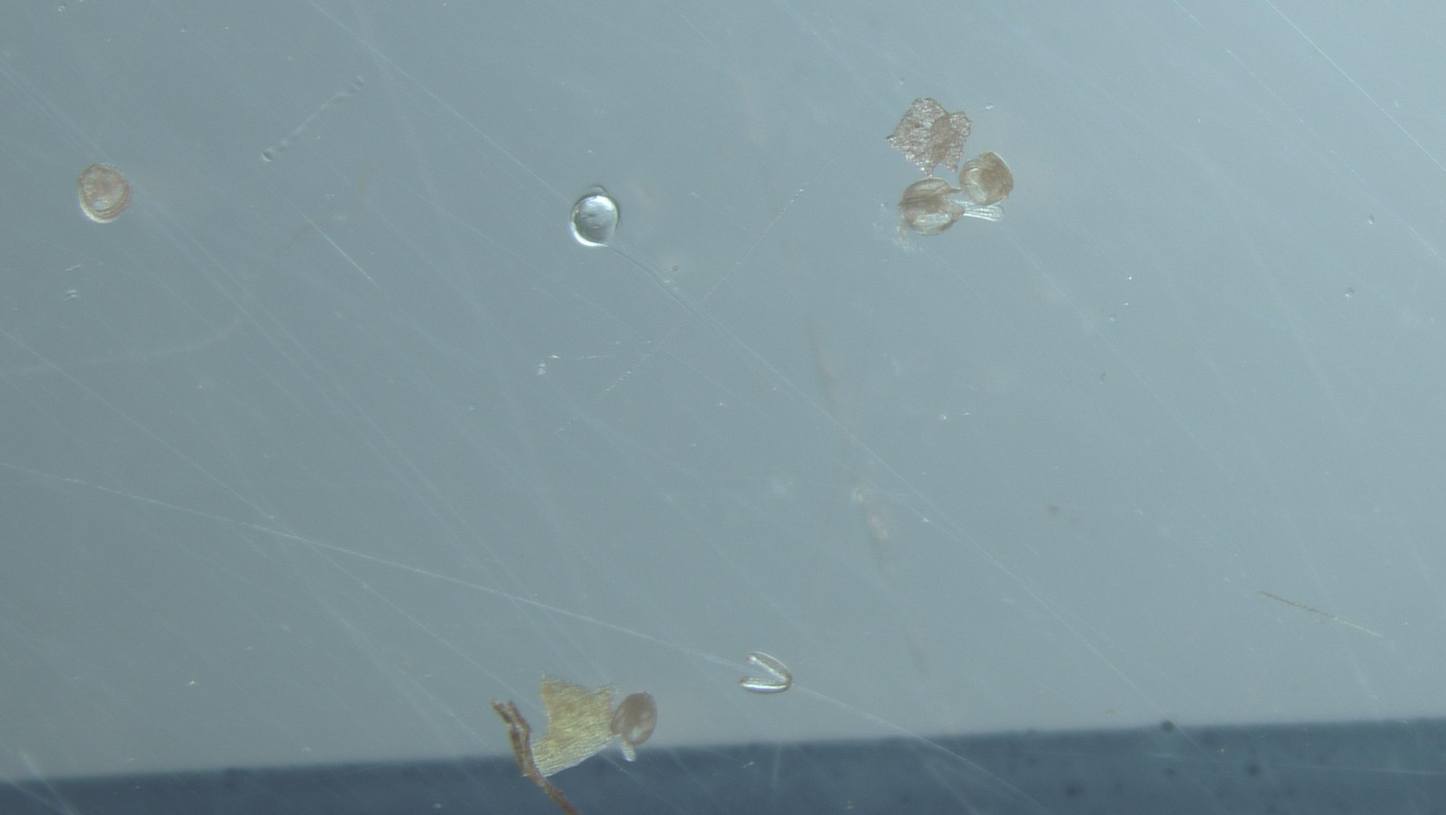dead: (571, 188, 619, 247)
live: (899, 178, 966, 235), (77, 164, 132, 224), (611, 693, 657, 760), (959, 151, 1014, 205)
